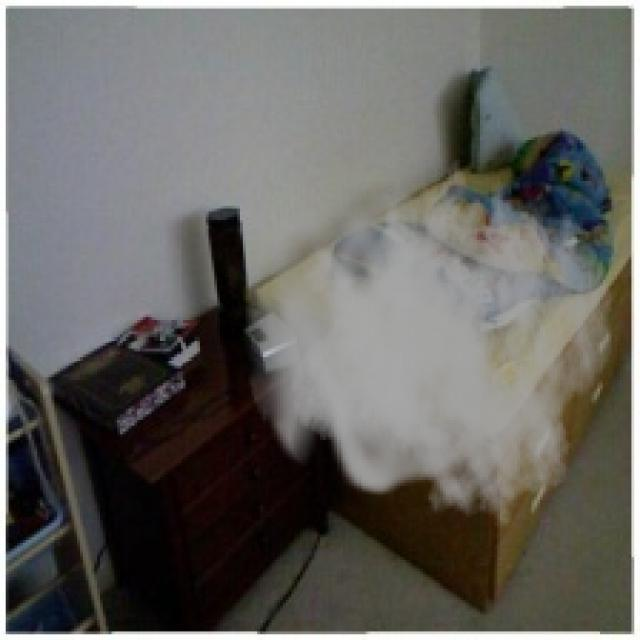Smoke: (246, 140, 614, 529)
